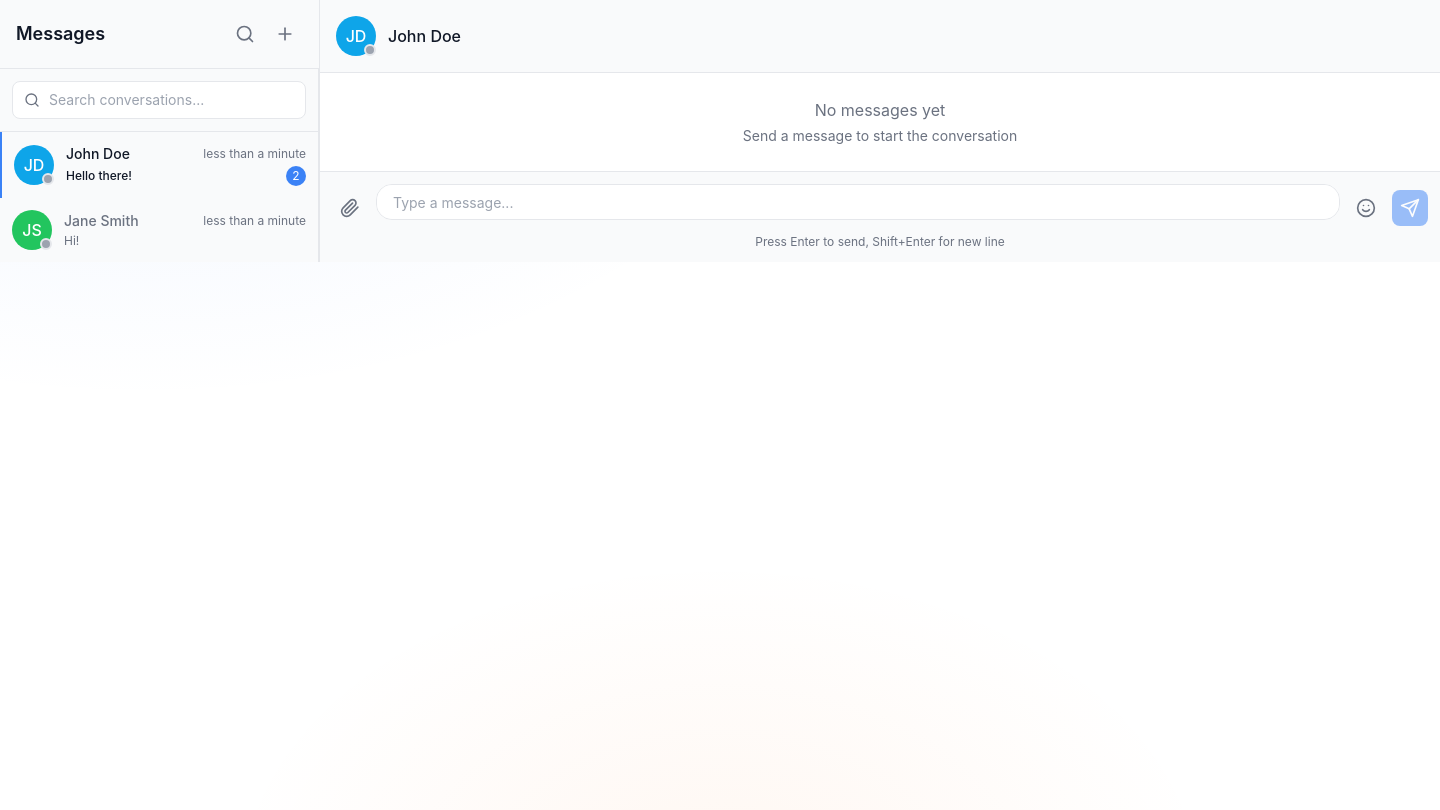
MessagesPage › New Conversation Modal › opens new conversation modal when button clicked
Click the button titled "New conversation": {"x": 285, "y": 34} [267, 16, 303, 52]
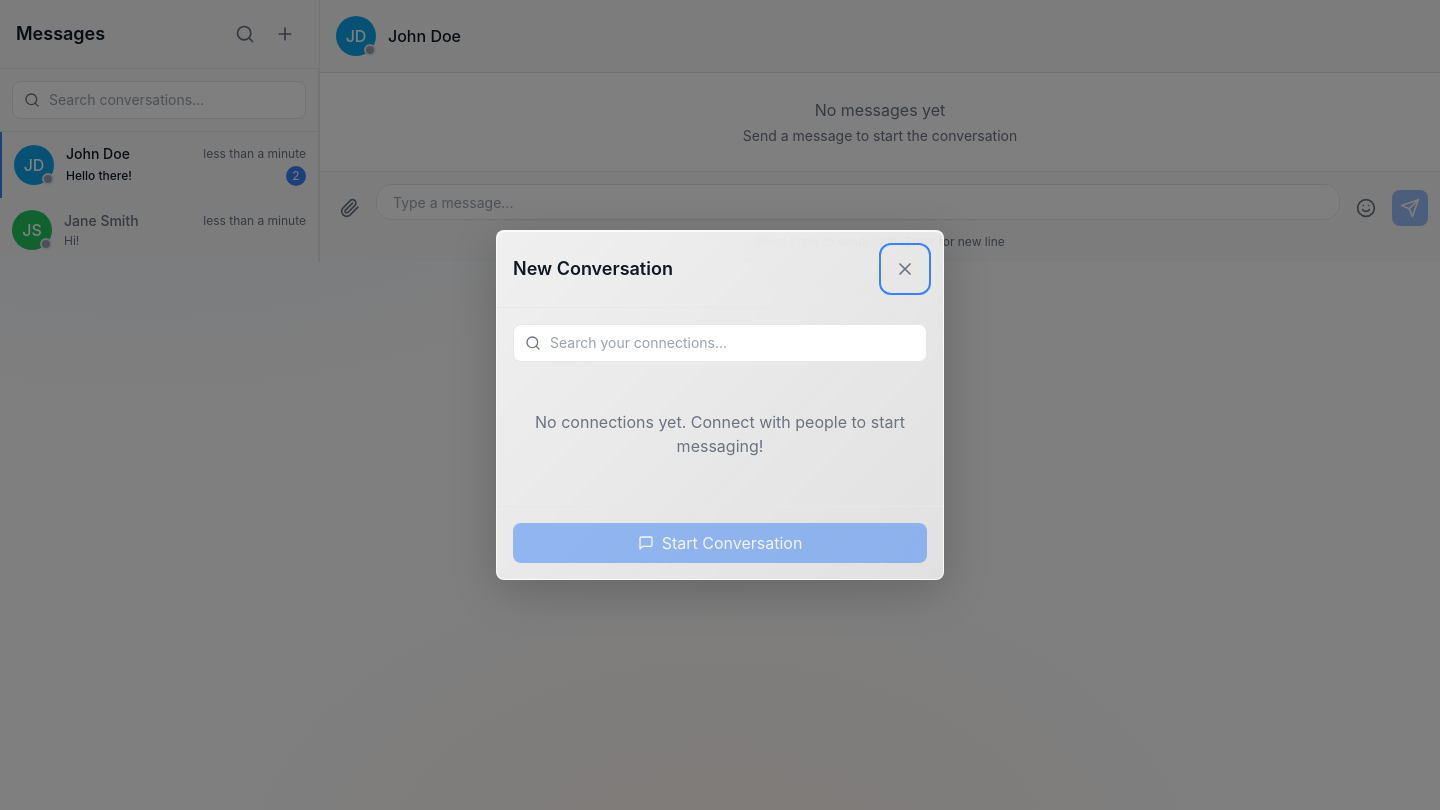
expect the heading "New Conversation" is shown: met, box [513, 255, 673, 283]
